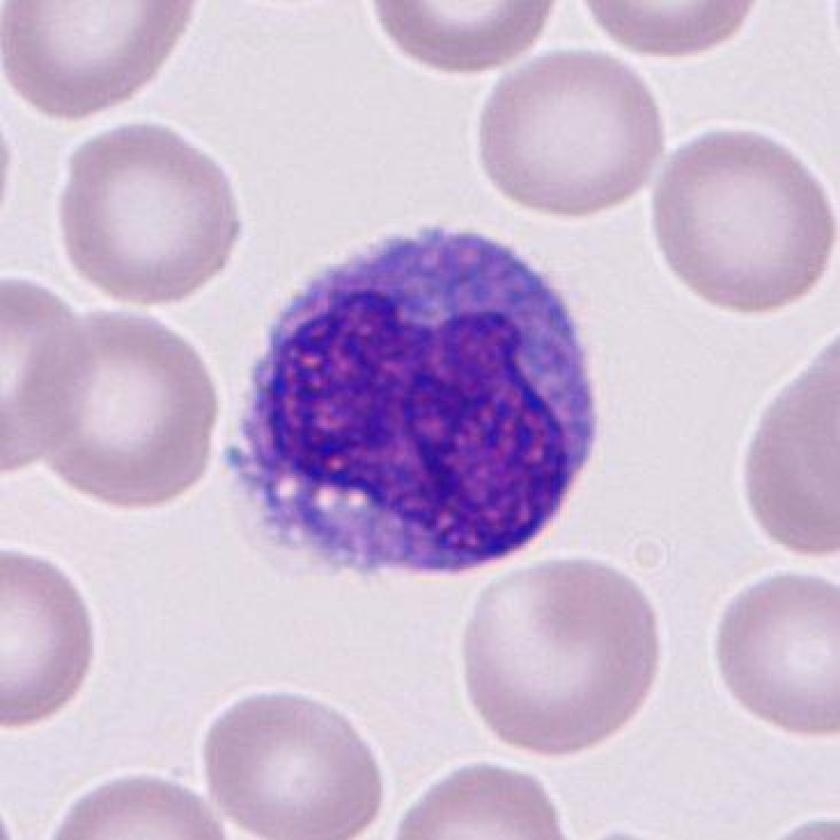monocyte: (208, 206, 619, 604)
